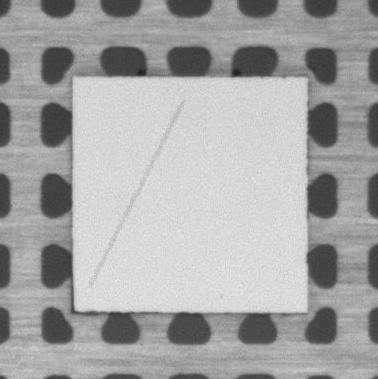DIE_CRACK: (90, 102, 183, 287)
